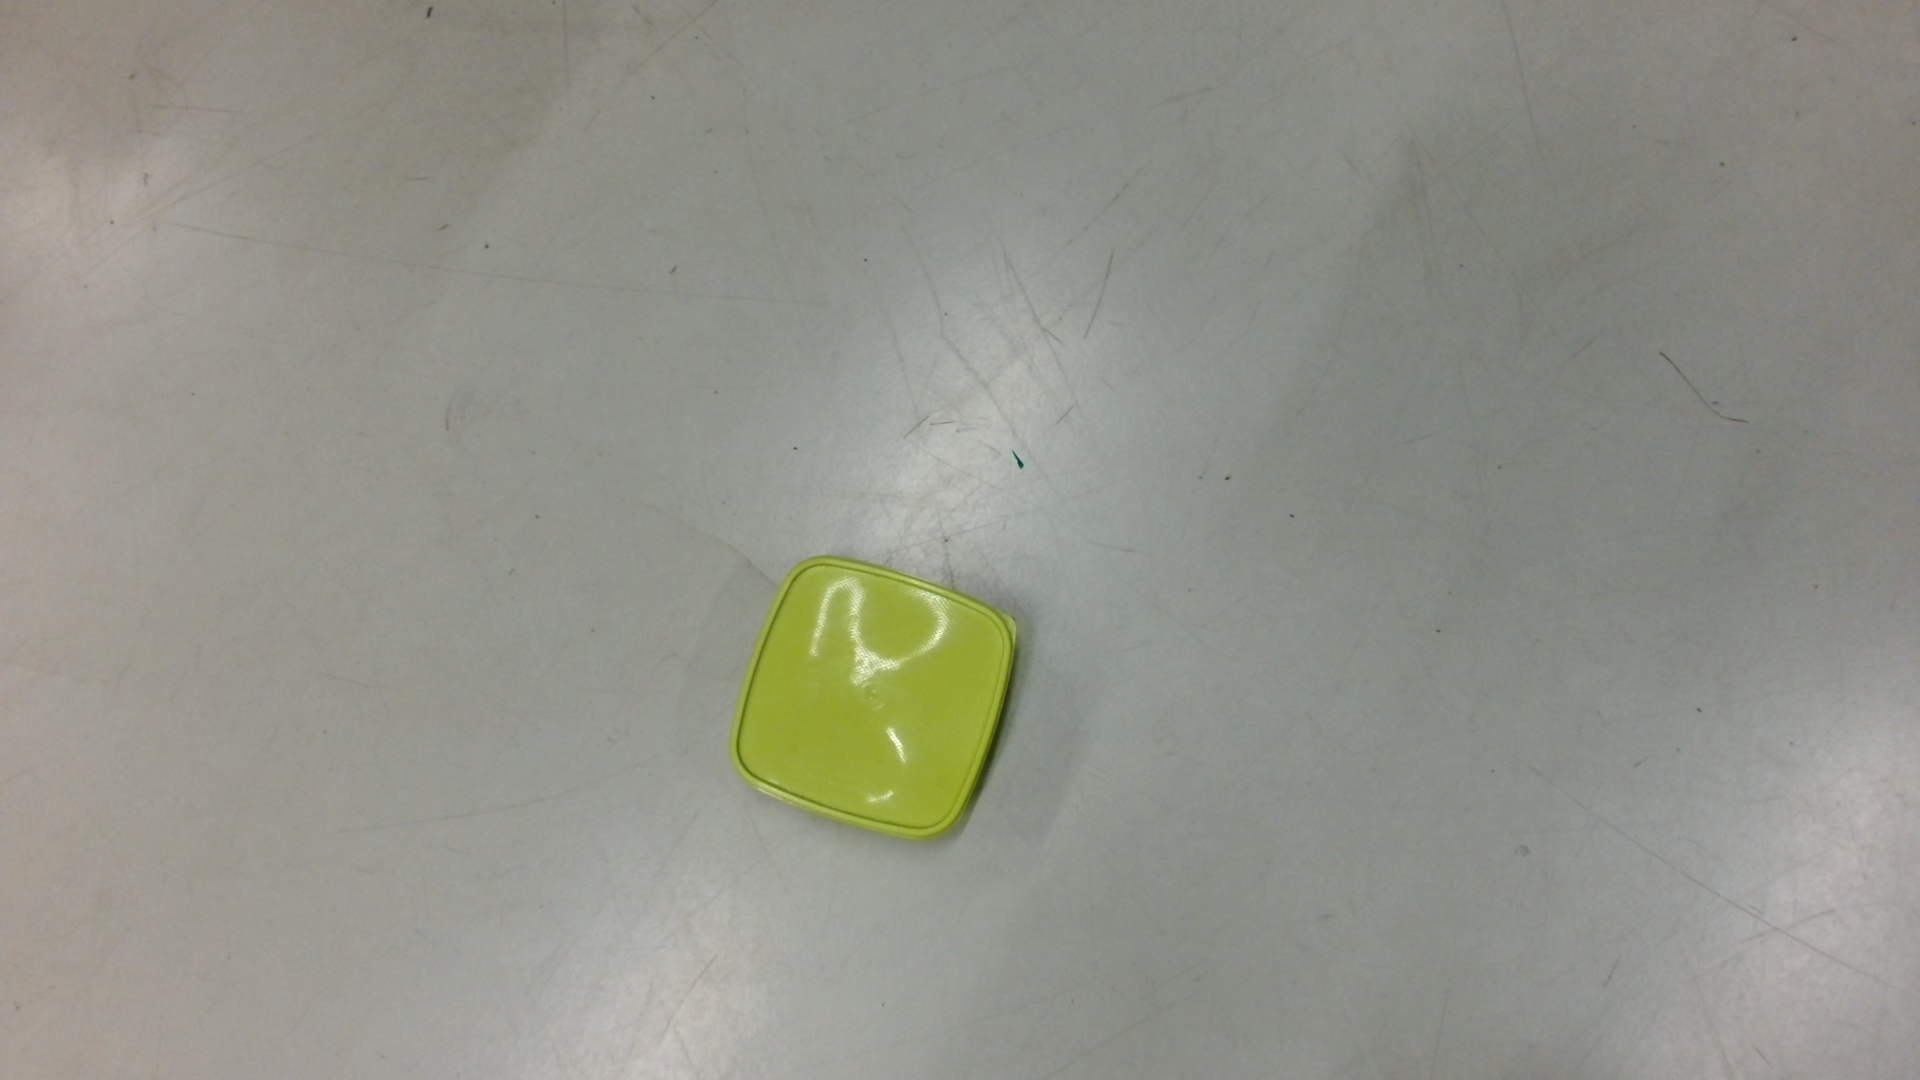Box: (725, 553, 1027, 852)
